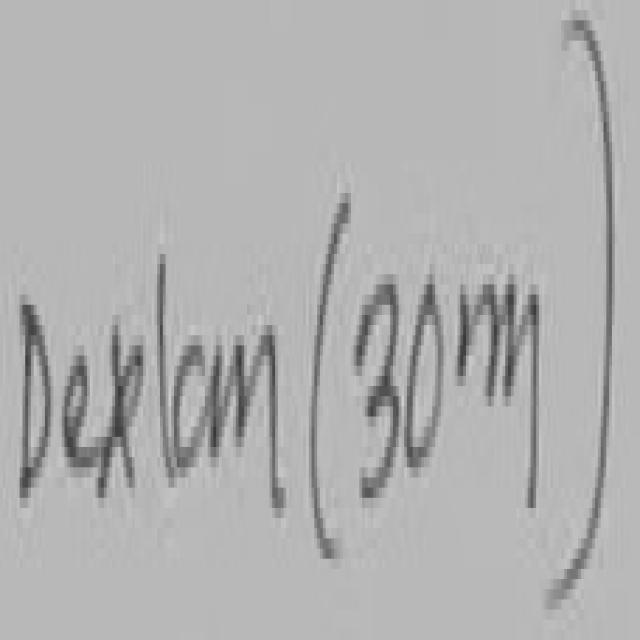0: (407, 284, 444, 467)
3: (356, 284, 401, 498)
D: (20, 305, 51, 493)
a: (174, 341, 221, 474)
e: (65, 356, 101, 467)
g: (514, 295, 542, 503)
l: (157, 254, 174, 488)
m: (456, 282, 515, 411)
n: (236, 325, 286, 503)
x: (98, 325, 142, 498)
